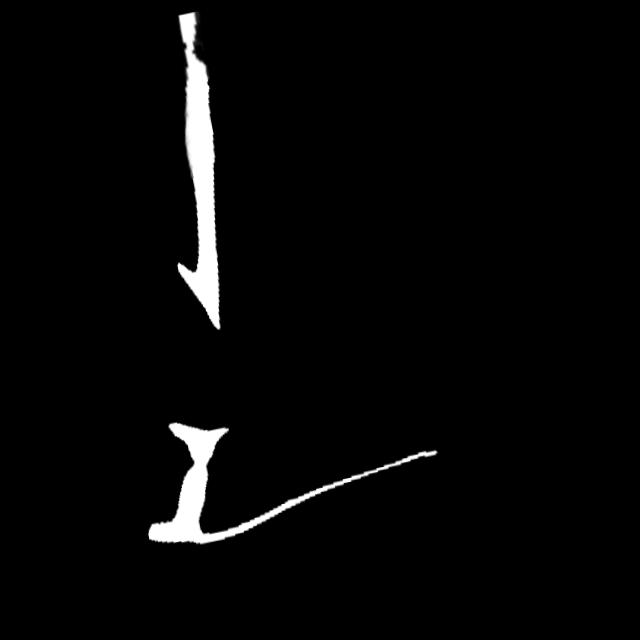sl: (173, 17, 213, 82)
